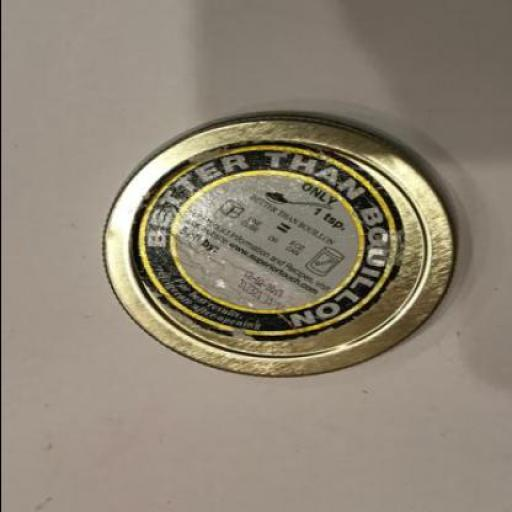metal: (99, 116, 455, 379)
